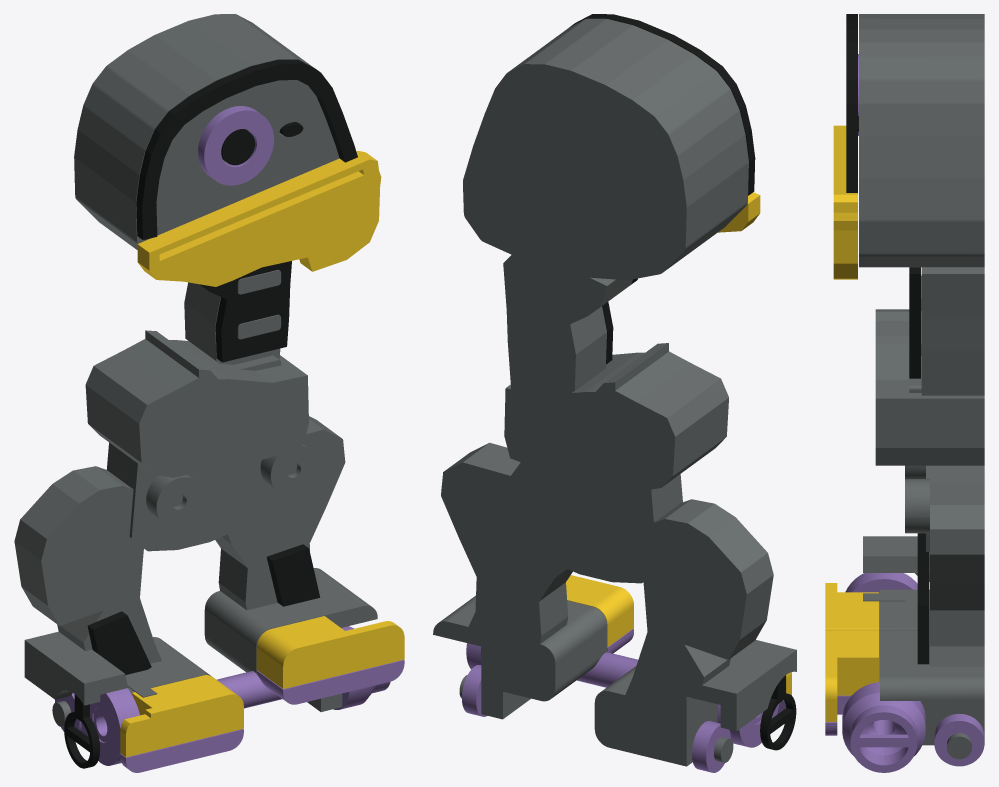
The model's file is microduck.glb.
The picture shows the model from 3 angles, left to right: view 1: azimuth 30°, elevation 25°; view 2: azimuth 150°, elevation 25°; view 3: azimuth 270°, elevation 25°; orthographic projection.
Visible parts, largest first — view 1: frame, bill, boot_right, head_rim, boot_left, neck_skin, lens, sole_right, shin_left, shin_right, rotor, sole_left (+3 smaller); view 2: frame, boot_right, head_rim, anchor, rotor, roller_left, roller_right, bill, left_wheel; view 3: frame, rotor, boot_right, bill, head_rim, boot_left, roller_right, neck_skin, left_wheel, shin_right, shin_left, pin_right (+1 smaller).
Part boxes in pixels (box(x1,y1,x2,y2)): frame: box(14, 14, 377, 711); bill: box(137, 150, 381, 286); boot_right: box(256, 616, 404, 688); head_rim: box(136, 59, 357, 239); boot_left: box(120, 675, 243, 757); neck_skin: box(199, 261, 291, 362); lens: box(198, 106, 273, 185); sole_right: box(256, 660, 404, 704); shin_left: box(87, 611, 151, 674); shin_right: box(266, 544, 320, 606); rotor: box(93, 626, 390, 742); sole_left: box(120, 729, 243, 772); frame: box(433, 18, 796, 766); boot_right: box(566, 575, 633, 647); head_rim: box(570, 14, 755, 195); anchor: box(760, 675, 796, 750); rotor: box(466, 643, 763, 723); roller_left: box(691, 721, 730, 772); roller_right: box(462, 665, 487, 716); bill: box(718, 192, 760, 232); left_wheel: box(717, 703, 779, 747); frame: box(859, 14, 984, 745); rotor: box(842, 601, 925, 772); boot_right: box(825, 629, 878, 721); bill: box(833, 125, 857, 279); head_rim: box(846, 14, 857, 192); boot_left: box(825, 583, 878, 629); roller_right: box(934, 714, 984, 766); neck_skin: box(909, 267, 920, 378); left_wheel: box(845, 573, 917, 593); shin_right: box(917, 591, 929, 664); shin_left: box(917, 533, 929, 591); pin_right: box(947, 733, 971, 759).
Size of the model in its own units: 0.0873 by 0.18 by 0.038.
